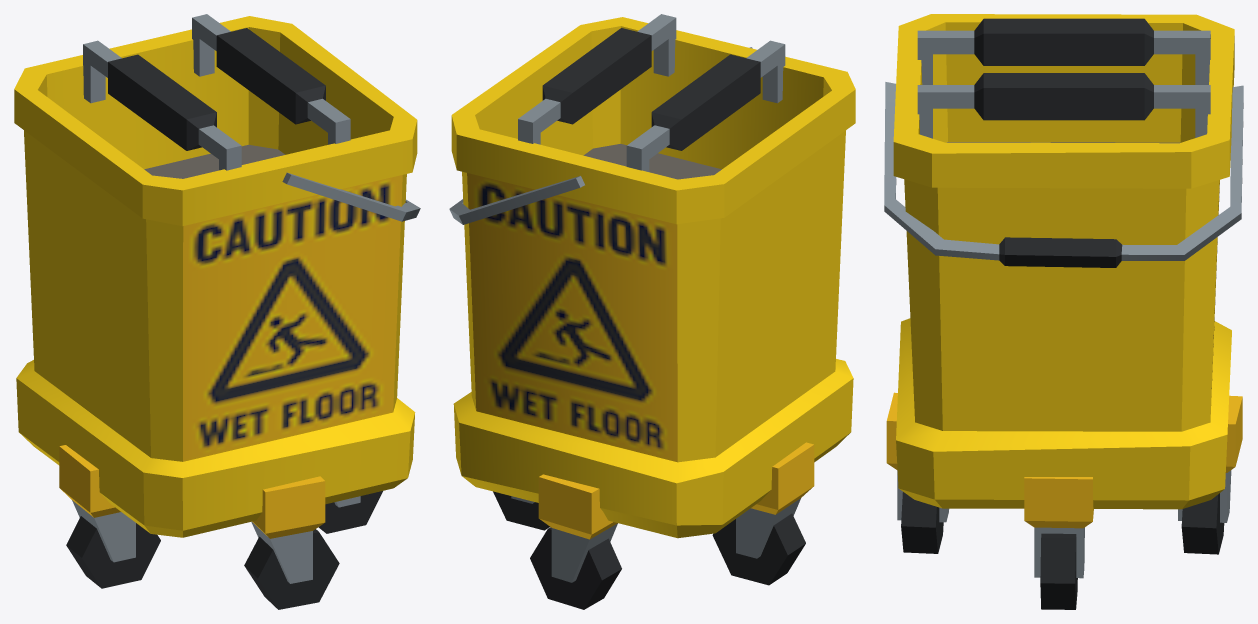
Rendered from Mop Bucket.fbx.
3 views of the same model, side by side, from view 1: azimuth 30°, elevation 25°; view 2: azimuth 150°, elevation 25°; view 3: azimuth 270°, elevation 25° (orthographic). The views are drawn at different scales.
Parts seen in each view (by area): view 1: Mop_Bucket; view 2: Mop_Bucket; view 3: Mop_Bucket.
Part boxes in pixels (x1=…): Mop_Bucket: x1=14, y1=14, x2=420, y2=609; Mop_Bucket: x1=449, y1=14, x2=855, y2=609; Mop_Bucket: x1=884, y1=14, x2=1243, y2=609.
Bounding box in the file's own units: 48.59 × 73 × 48.83.
